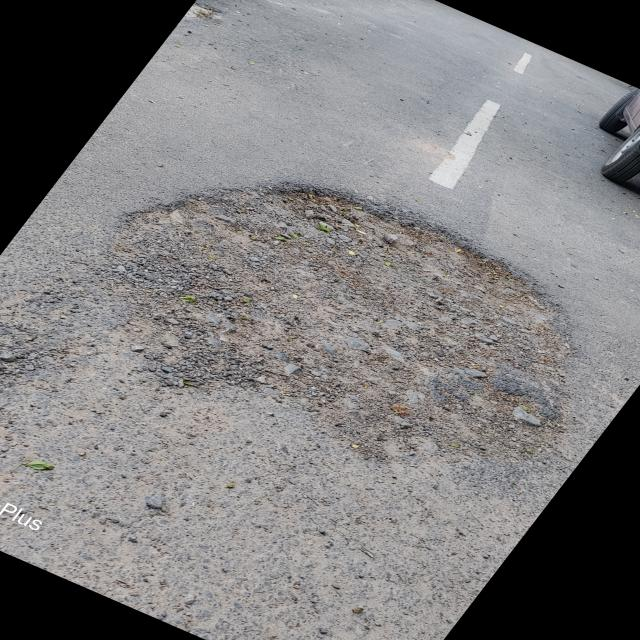potholes: (94, 176, 596, 461)
